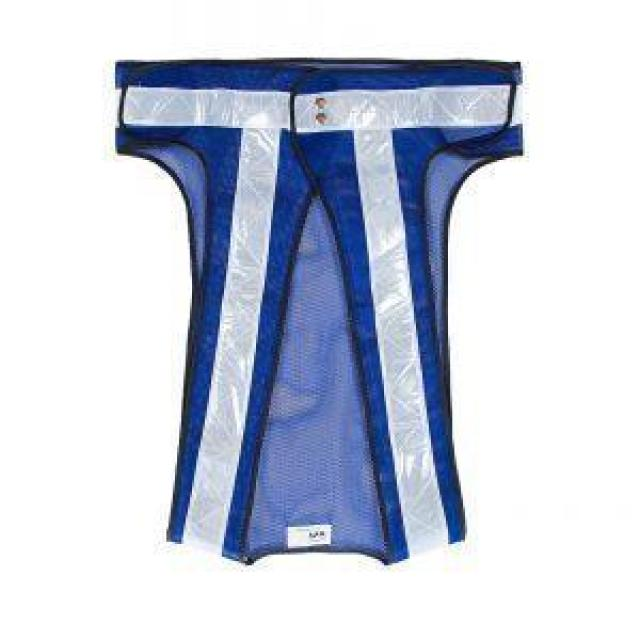jacket: (101, 34, 540, 602)
